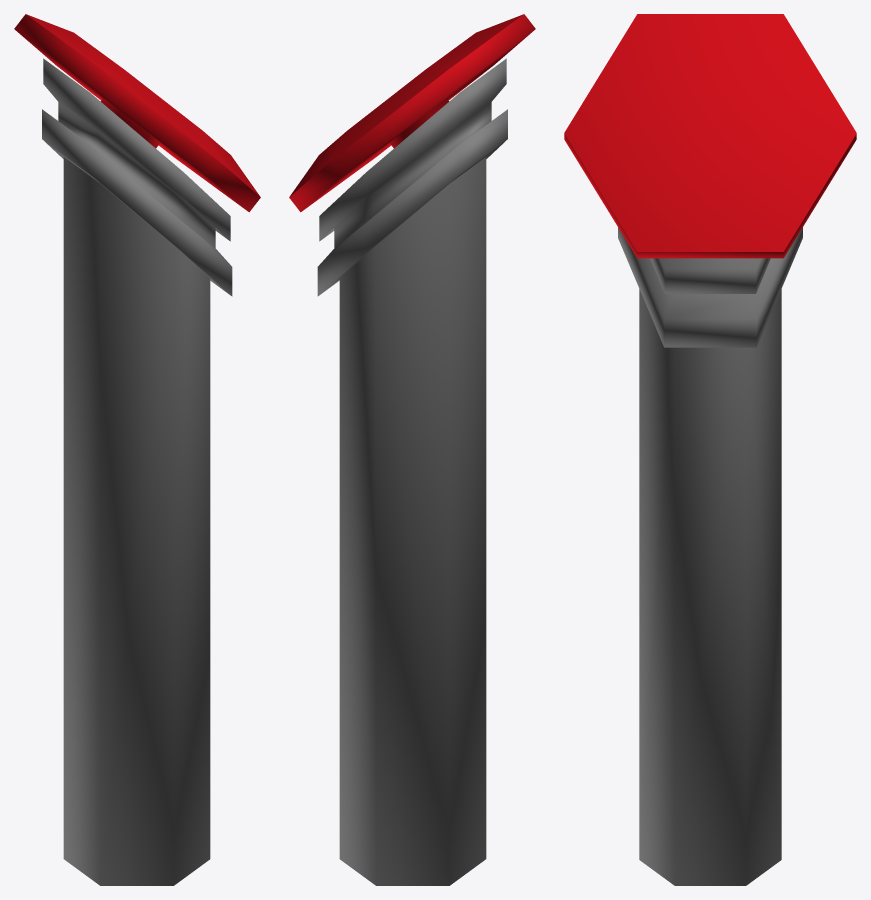
File: button2.dae
The picture shows the model from 3 angles, left to right: view 1: azimuth 30°, elevation 25°; view 2: azimuth 150°, elevation 25°; view 3: azimuth 270°, elevation 25°; orthographic projection. The views are drawn at different scales.
Parts seen in each view (by area): view 1: ButtonStand, button; view 2: ButtonStand, button; view 3: ButtonStand, button.
Boxes of the visible parts, x1,y1,x2,y2 form: ButtonStand: (42,58,232,885); button: (14,14,260,212); ButtonStand: (317,58,507,885); button: (289,14,535,212); ButtonStand: (618,227,802,885); button: (564,14,856,258).
Size of the model in its own units: 1.35 by 2.05 by 6.28.
